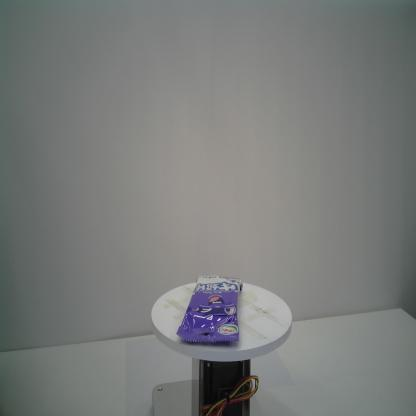Candy: (176, 273, 244, 345)
